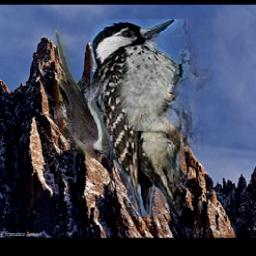Cuckoo: (55, 31, 108, 159)
Woodpecker: (91, 20, 215, 218)
